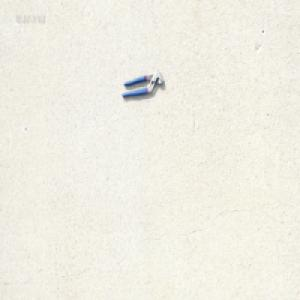Pliers: (121, 70, 164, 99)
